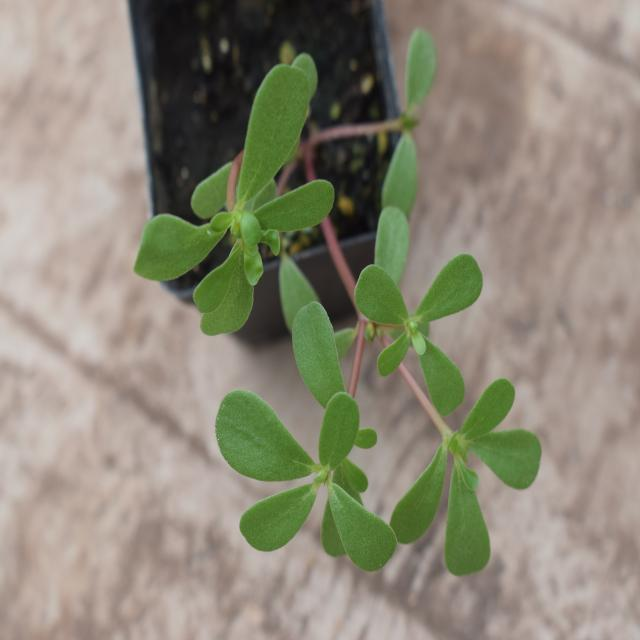purslane: (135, 69, 532, 581)
